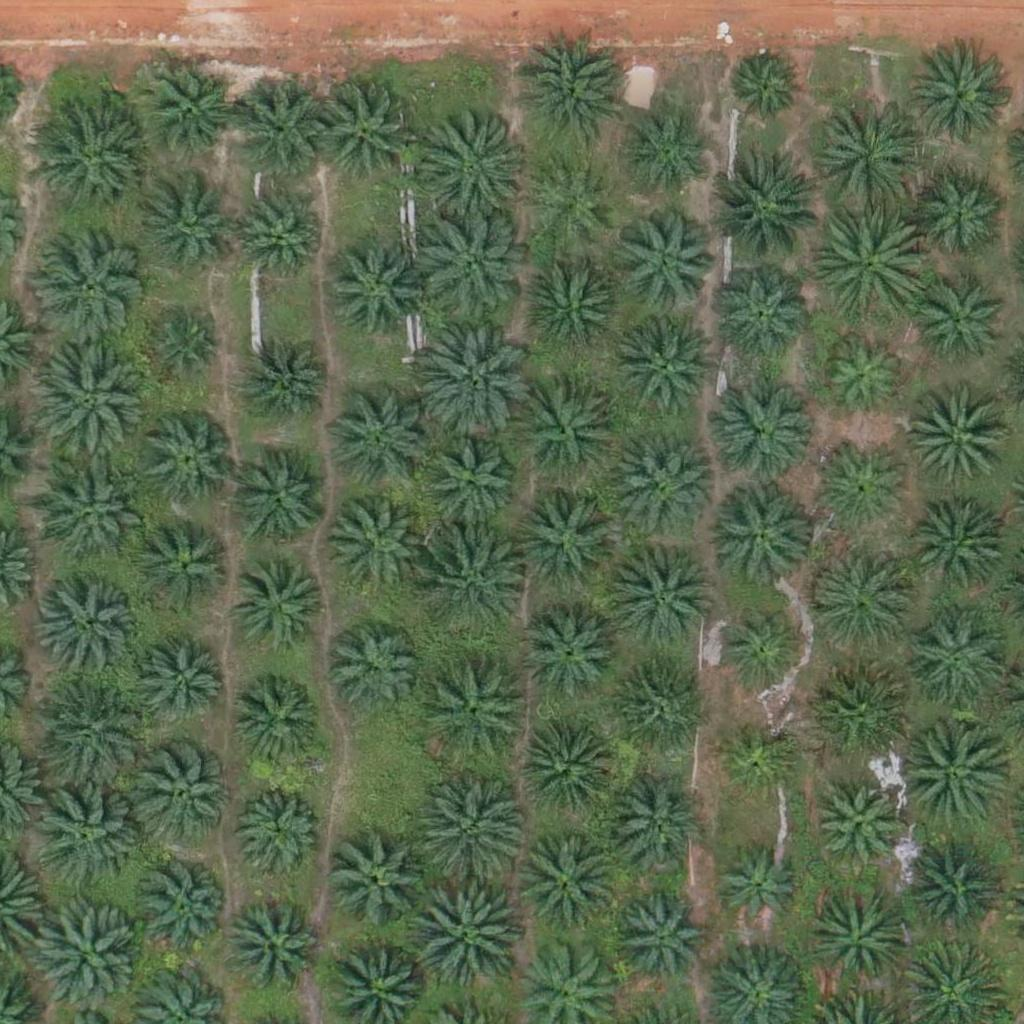Kelapa_Sawit: (29, 350, 142, 464), (31, 779, 144, 893), (418, 108, 531, 222), (415, 525, 528, 639), (419, 661, 532, 775), (708, 159, 821, 273), (29, 233, 142, 346), (34, 673, 147, 786), (414, 328, 527, 441), (412, 773, 525, 886), (512, 374, 625, 487), (516, 37, 629, 150), (818, 108, 931, 221), (890, 715, 1003, 828), (415, 880, 528, 993), (27, 899, 140, 1012), (818, 211, 930, 325), (32, 100, 144, 213), (420, 215, 532, 328), (512, 484, 624, 597), (610, 427, 722, 540), (606, 542, 718, 655), (810, 542, 922, 655), (38, 470, 138, 571), (40, 579, 140, 680), (138, 514, 238, 615), (145, 65, 245, 166), (227, 559, 327, 660), (327, 830, 427, 931), (322, 623, 422, 724), (325, 498, 425, 599), (333, 390, 433, 491), (327, 240, 427, 341), (314, 81, 414, 182), (418, 437, 518, 538), (523, 718, 623, 819), (523, 601, 623, 702), (521, 256, 621, 357), (612, 321, 712, 422), (607, 665, 707, 766), (612, 774, 712, 875), (710, 485, 810, 586), (822, 661, 922, 762), (910, 51, 1010, 152), (905, 396, 1005, 497), (904, 608, 1004, 709), (895, 837, 995, 938), (807, 889, 907, 990), (138, 741, 238, 841), (137, 409, 237, 509), (233, 83, 333, 183), (238, 336, 338, 436), (231, 452, 331, 552), (231, 673, 331, 773), (130, 862, 230, 962), (519, 832, 619, 932), (623, 214, 723, 314), (710, 262, 810, 362), (712, 383, 812, 483), (910, 494, 1010, 594), (224, 896, 324, 996), (234, 783, 322, 871), (625, 111, 713, 199), (716, 713, 804, 801), (716, 600, 804, 688), (811, 781, 899, 869), (825, 333, 913, 421), (614, 898, 702, 986), (242, 191, 329, 280), (529, 162, 616, 251), (134, 639, 221, 727), (145, 190, 232, 278), (711, 845, 798, 933), (820, 444, 907, 532), (914, 172, 1001, 260), (918, 279, 1005, 367), (146, 312, 221, 388), (728, 52, 803, 127)
